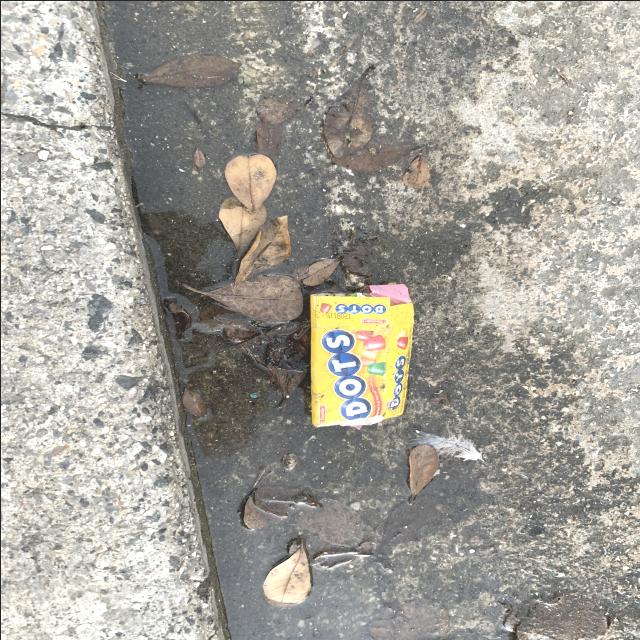Other carton: (309, 292, 413, 427)
Plastic film: (367, 283, 410, 305)
